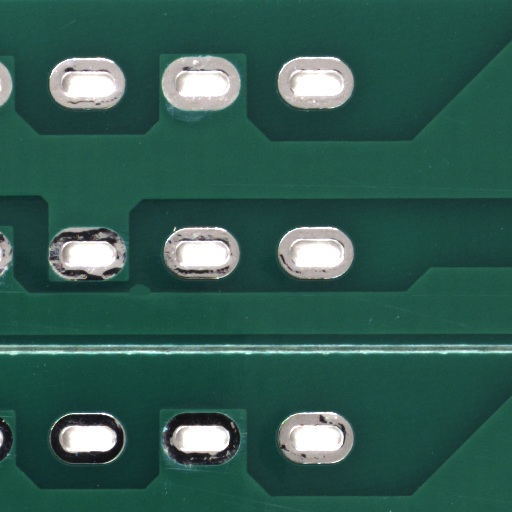Spur: (139, 288, 163, 299)
